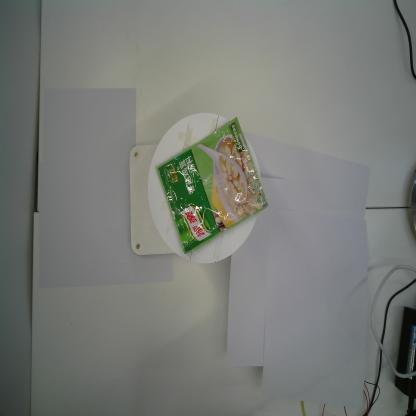Seasoner: (156, 117, 268, 256)
